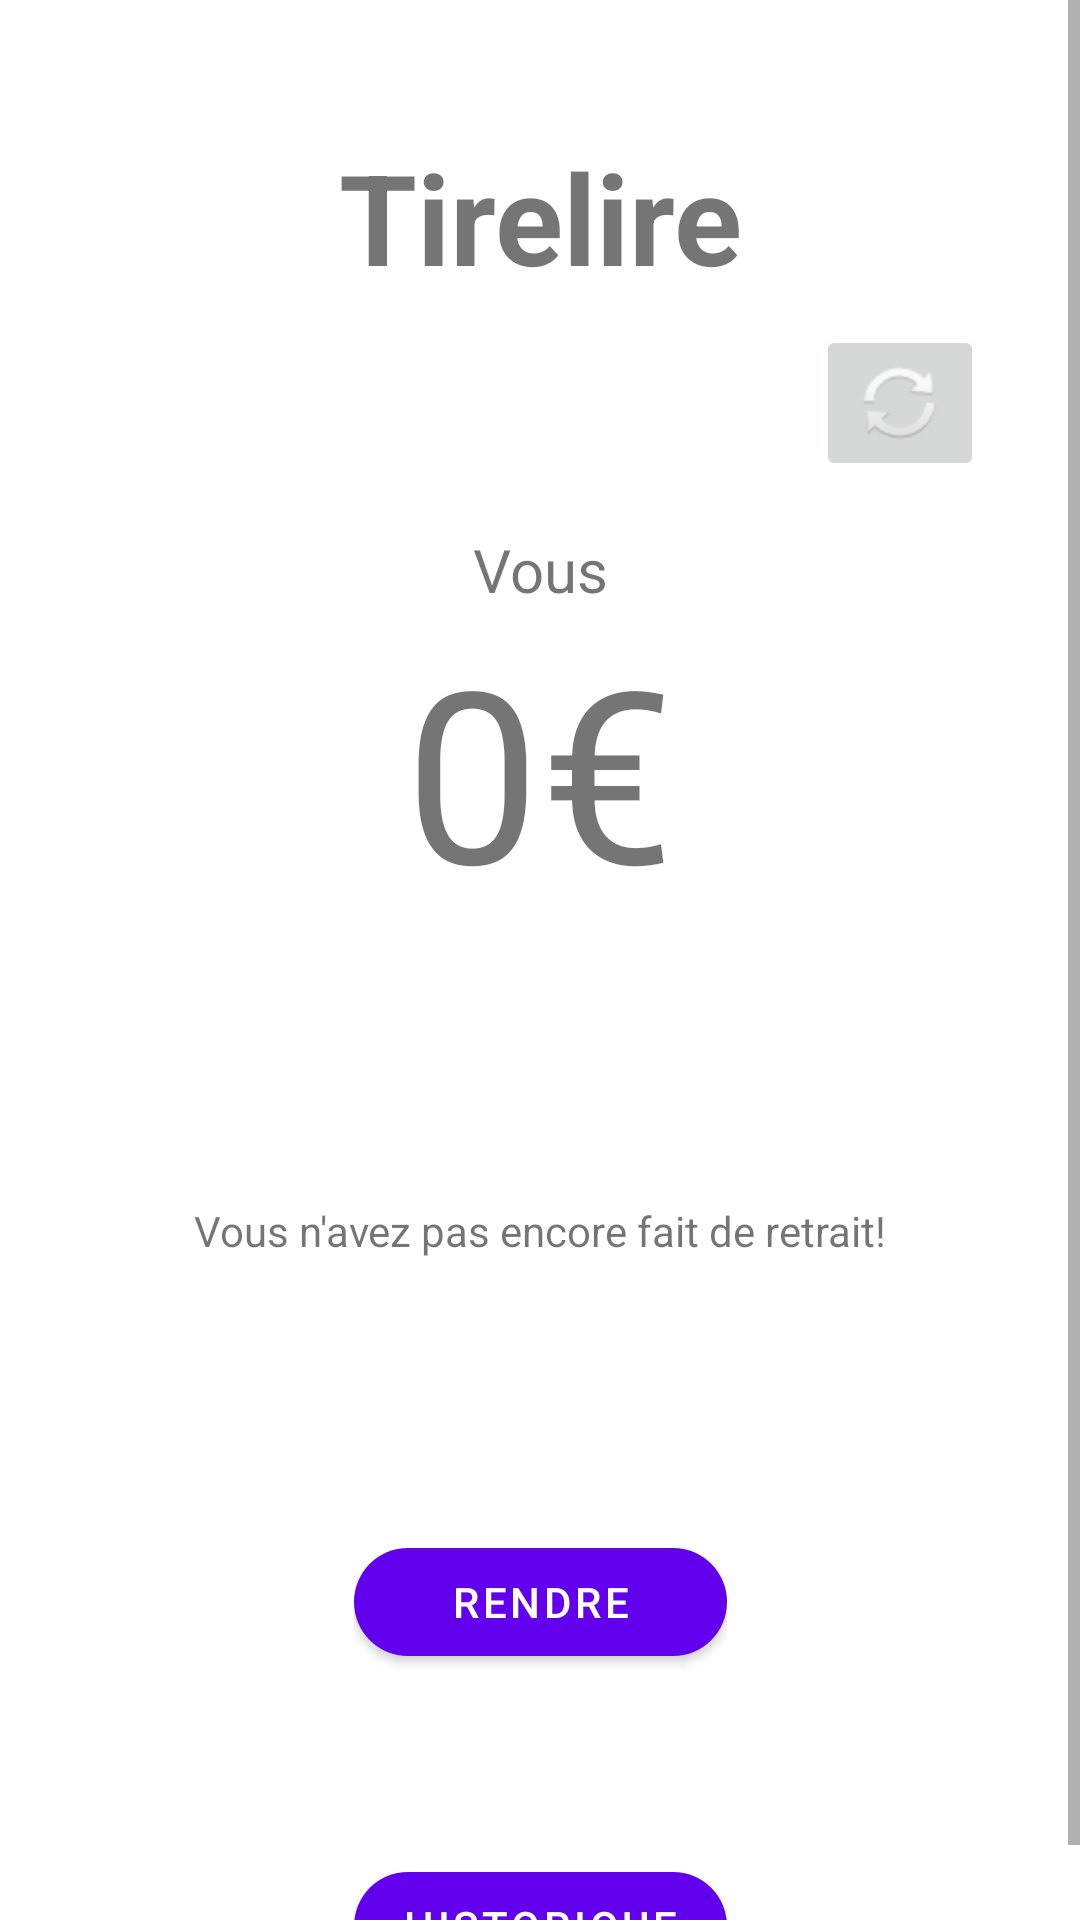

Point at icon controls on the screen. Image size 1080x1920, points as (x=x, y=y).
Rafraichissement des données: (x=900, y=403)
